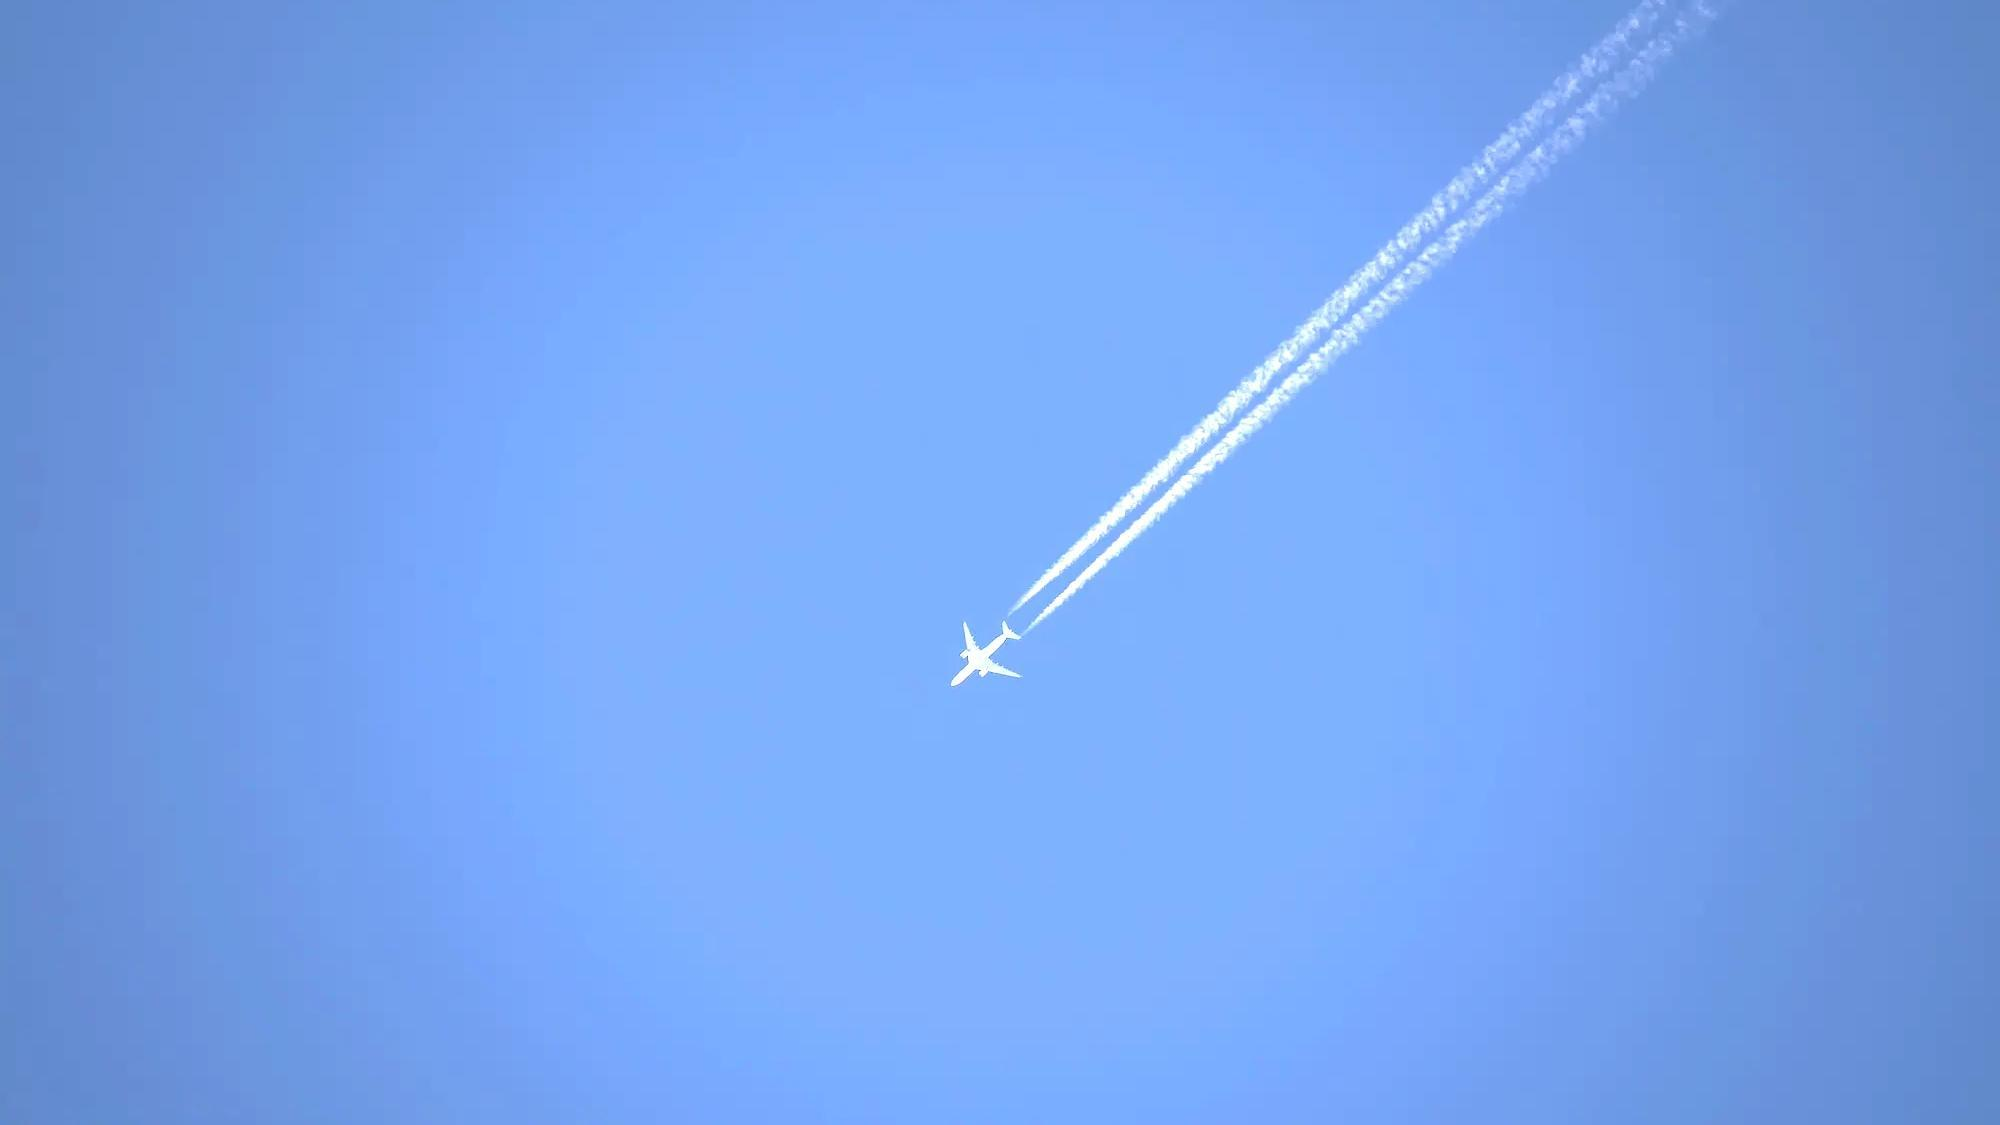Plane: (885, 173, 1451, 716)
